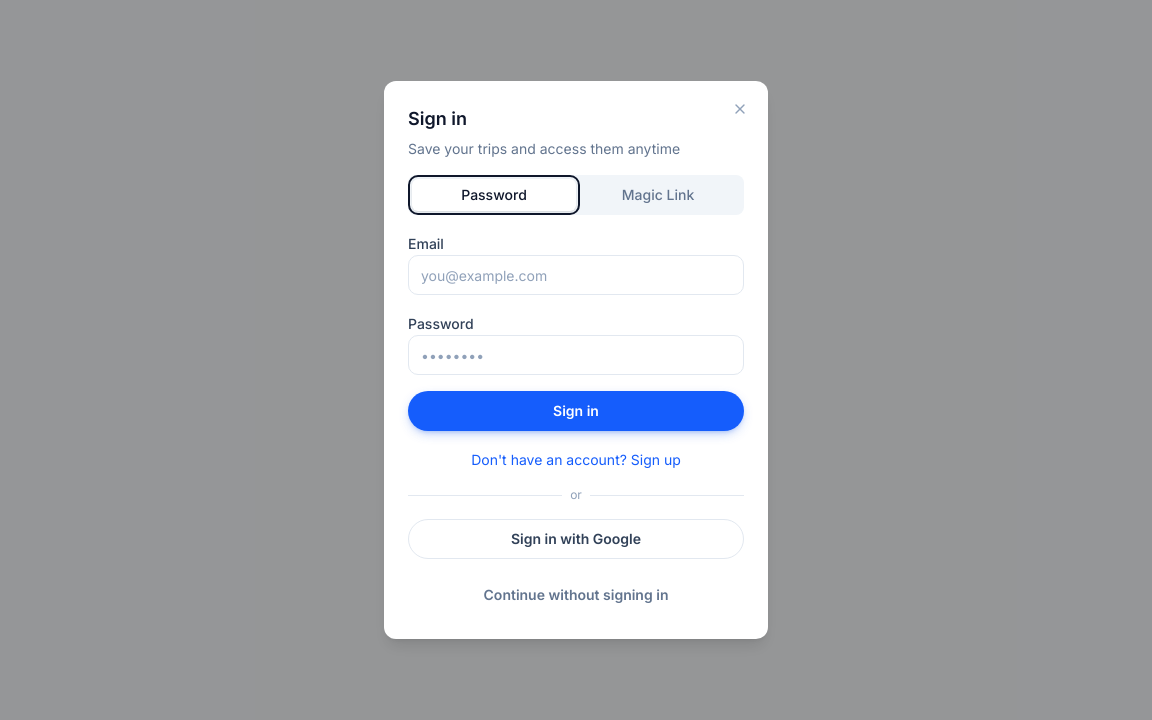
Test case: AuthModal › switches to sign-up mode with username field
Click the button "Don't have an account? Sign up".
click(576, 460)  # box x1=471 y1=450 x2=681 y2=470
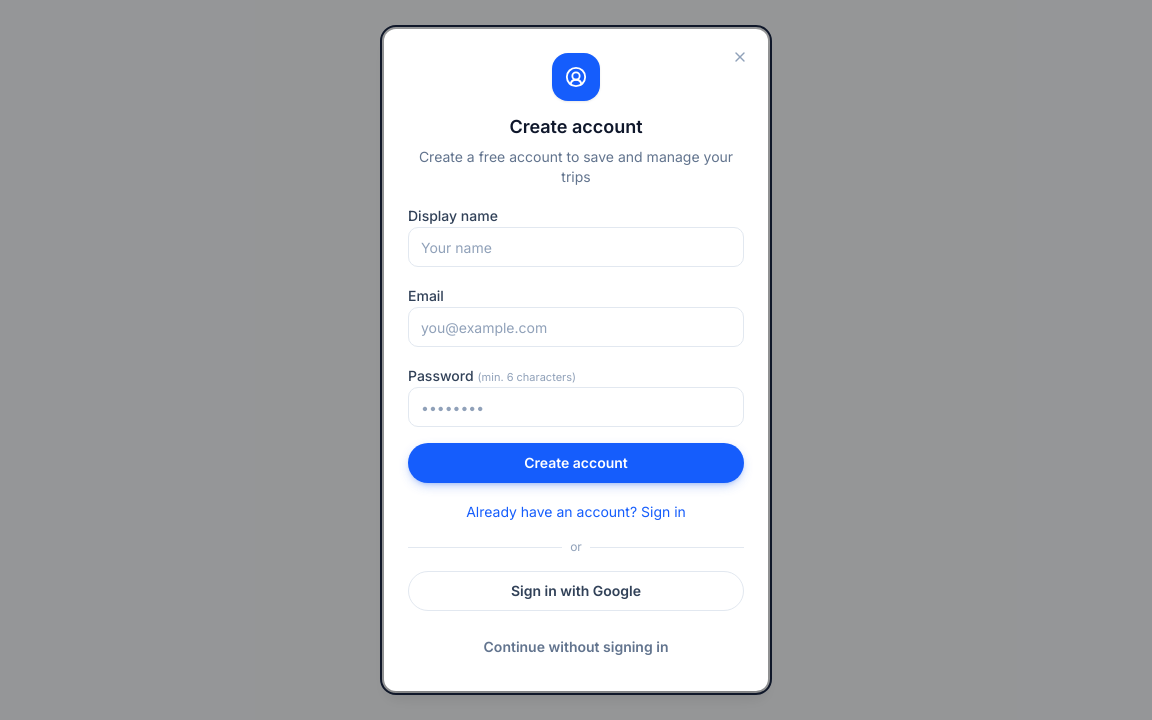
Now the heading "Create account" is shown, box x1=509 y1=116 x2=643 y2=137
Now the field labelled "Display name" is shown, box x1=408 y1=227 x2=744 y2=267
